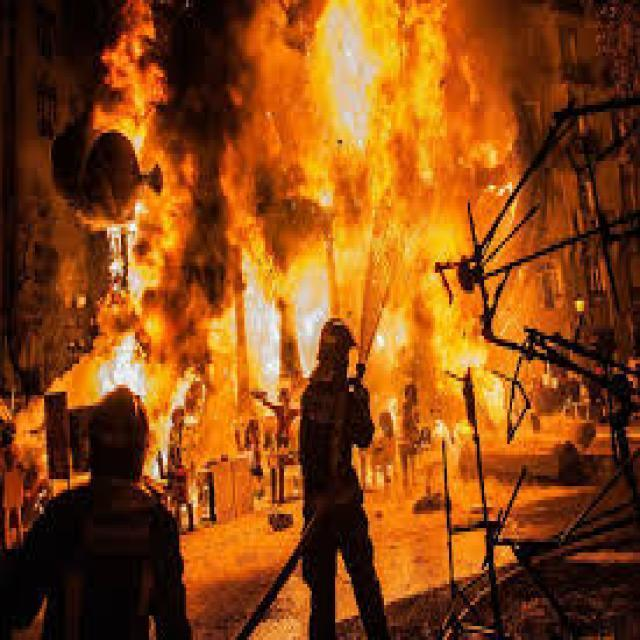Fire: (234, 0, 517, 456), (96, 0, 218, 455)
Smoke: (526, 15, 640, 143), (12, 362, 92, 497)
